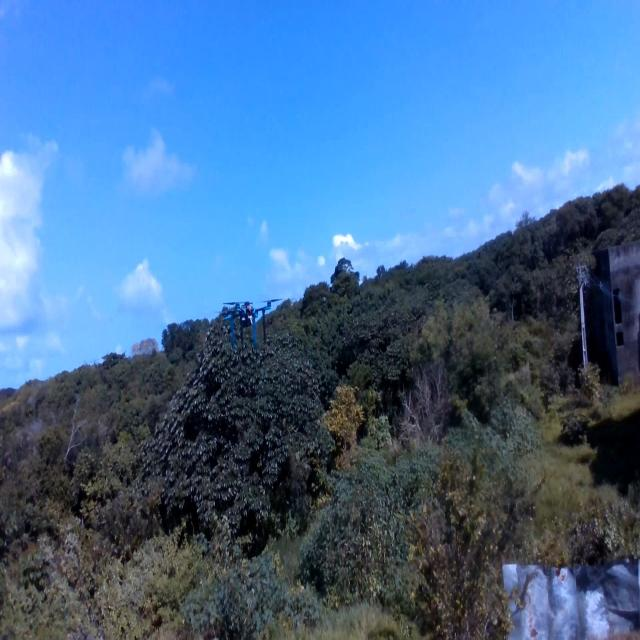-uav-: (218, 286, 285, 361)
